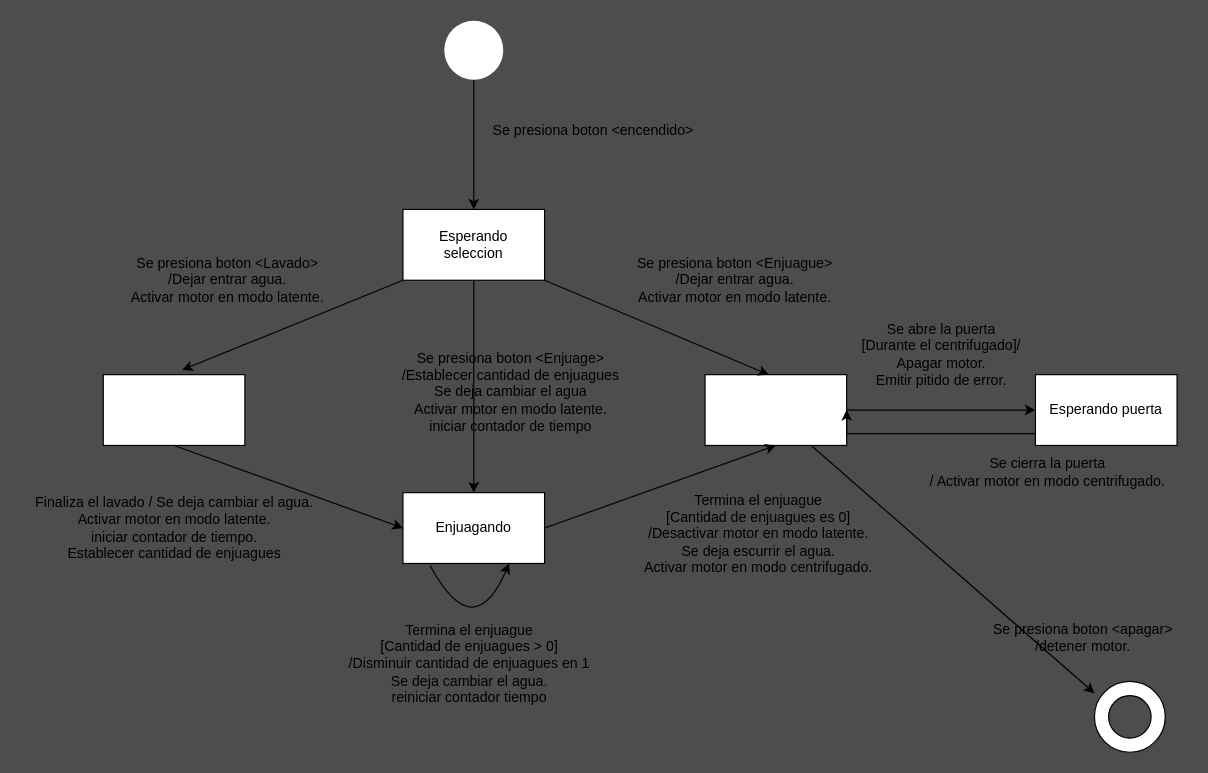
The diagram is 1208 pixels wide and 773 high, and some of its shapes have lost their labels. Each missing label, with the centre of its shape:
Centrifugando: the point at 775,409
Lavando: the point at 173,409
